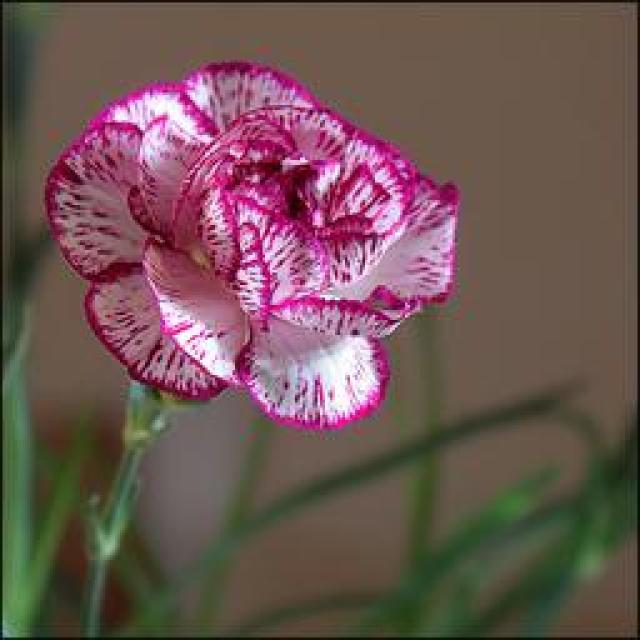carnation: (29, 37, 491, 446)
